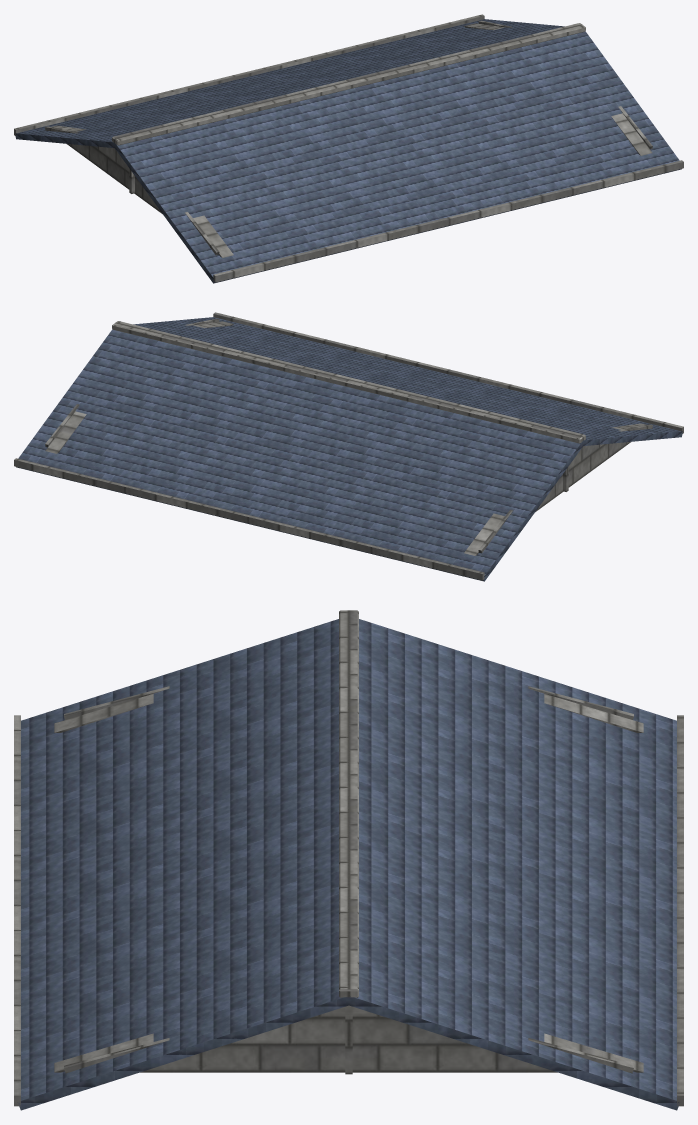
File: roof_crypt.glb
3 views of the same model, one above another, from view 1: azimuth 30°, elevation 25°; view 2: azimuth 150°, elevation 25°; view 3: azimuth 270°, elevation 25° (orthographic). The views are drawn at different scales.
Visible parts, largest first — view 1: roof_crypt; view 2: roof_crypt; view 3: roof_crypt.
Part boxes in pixels (x1,y1,x2,y2): roof_crypt: (14, 14, 683, 283); roof_crypt: (14, 312, 683, 581); roof_crypt: (14, 610, 683, 1110).
Size of the model in its own units: 15.2 by 2.25 by 11.32.
Materials: 2 (2 with a texture image).
